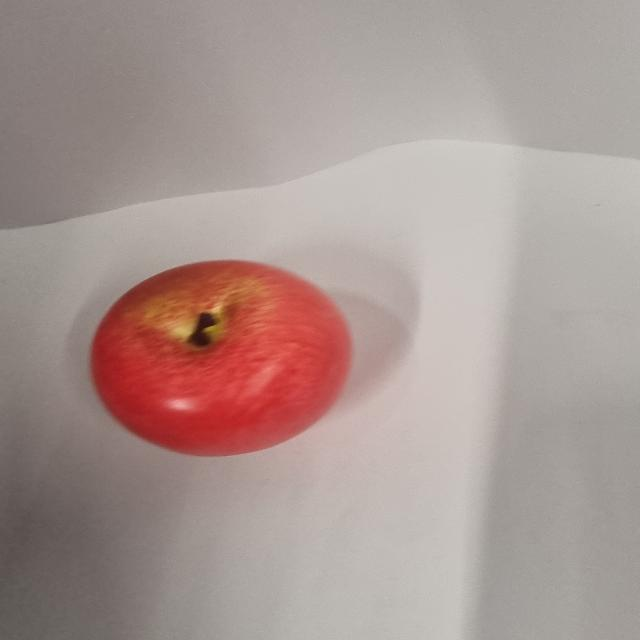apple: (92, 259, 355, 458)
